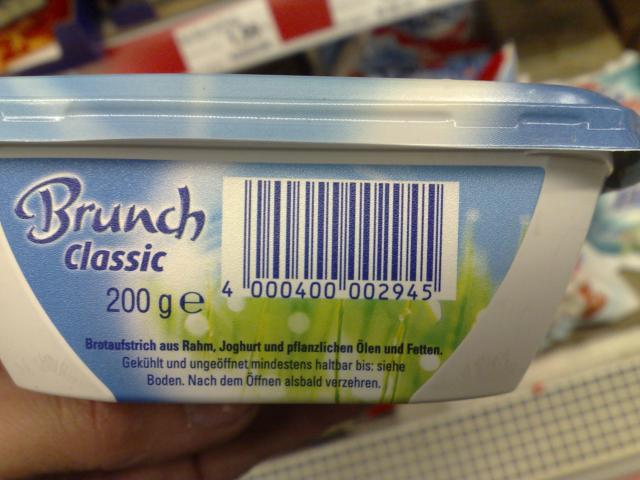Barcode: (221, 177, 460, 303)
